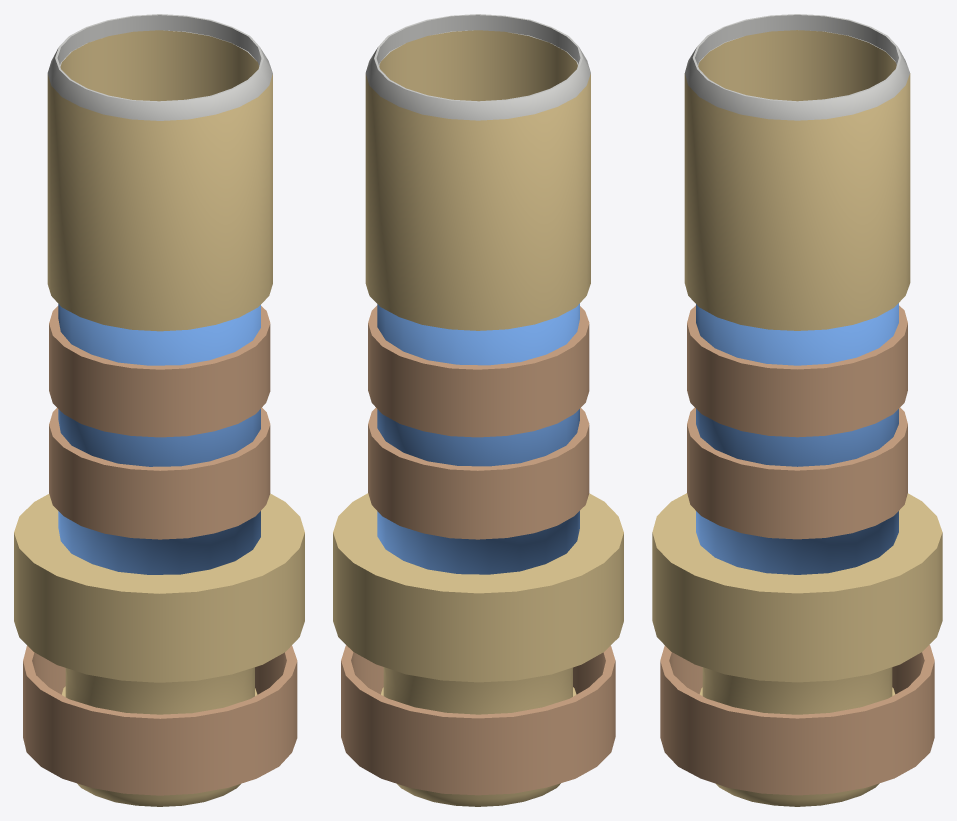
Rendered from slab_pipes_supply__water-city_filter_and_softener-no_and_plumbing-attic_repipe+pex+pex_branch.glb.
3 views of the same model, side by side, from view 1: azimuth 30°, elevation 25°; view 2: azimuth 150°, elevation 25°; view 3: azimuth 270°, elevation 25° (orthographic).
Visible parts, largest first — view 1: fit_adapter_pipe_supply_house_entry__pex; view 2: fit_adapter_pipe_supply_house_entry__pex; view 3: fit_adapter_pipe_supply_house_entry__pex.
Boxes of the visible parts, x1,y1,x2,y2 form: fit_adapter_pipe_supply_house_entry__pex: (14,14,304,806); fit_adapter_pipe_supply_house_entry__pex: (333,14,623,806); fit_adapter_pipe_supply_house_entry__pex: (652,14,942,806).
Bounding box in the file's own units: 0.0317 × 0.0858 × 0.0317.
